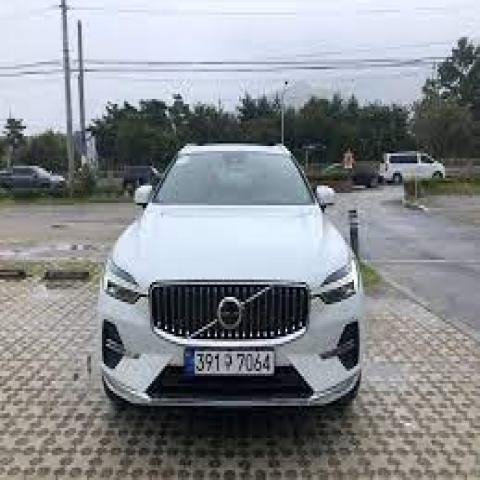LP: (174, 339, 285, 380)
